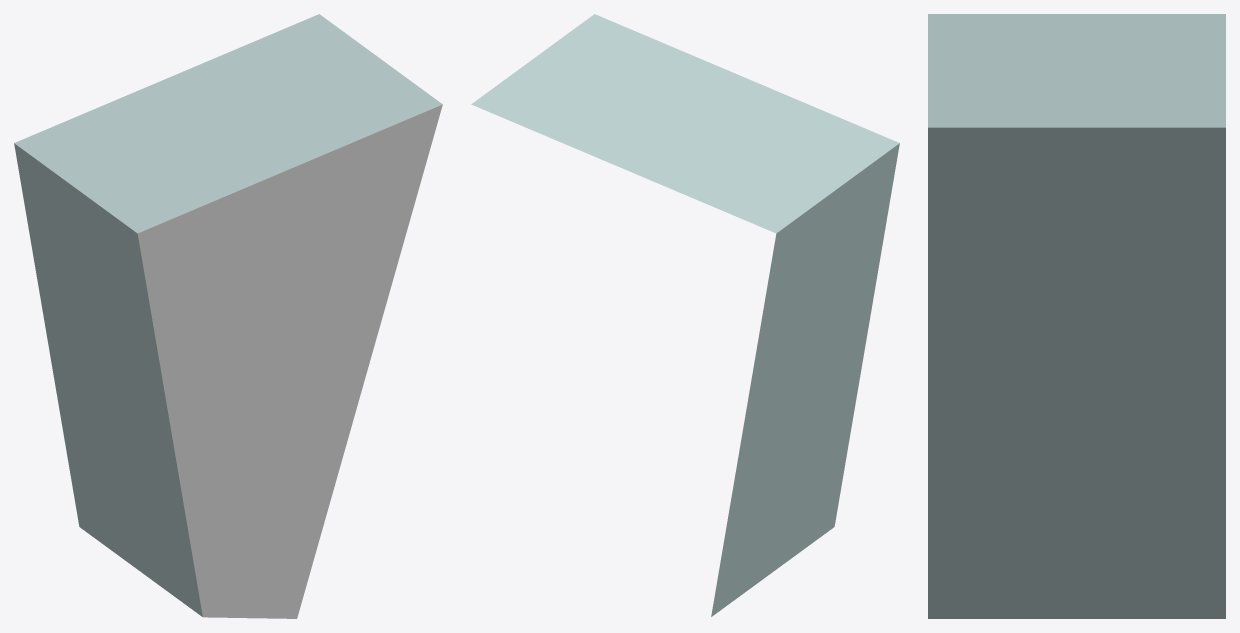
3 renders of one model, left to right at view 1: azimuth 30°, elevation 25°; view 2: azimuth 150°, elevation 25°; view 3: azimuth 270°, elevation 25°, orthographic. The views are drawn at different scales.
Visible parts, largest first — view 1: 0_1_0_1_2_2_1_0_2; view 2: 0_1_0_1_2_2_1_0_2; view 3: 0_1_0_1_2_2_1_0_2.
Boxes of the visible parts, left/top/right/bottom form: 0_1_0_1_2_2_1_0_2: left=14, top=14, right=442, bottom=618; 0_1_0_1_2_2_1_0_2: left=471, top=14, right=899, bottom=616; 0_1_0_1_2_2_1_0_2: left=928, top=14, right=1225, bottom=618.
Size of the model in its own units: 4.28 by 6.42 by 3.
